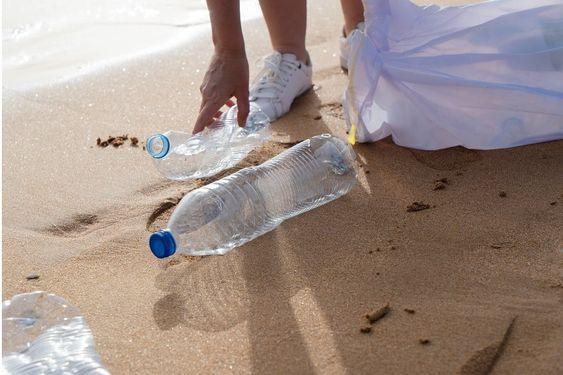LDPE: (355, 0, 563, 145), (148, 229, 177, 259)
PETE: (167, 148, 348, 257), (0, 288, 110, 375), (146, 122, 269, 168)
